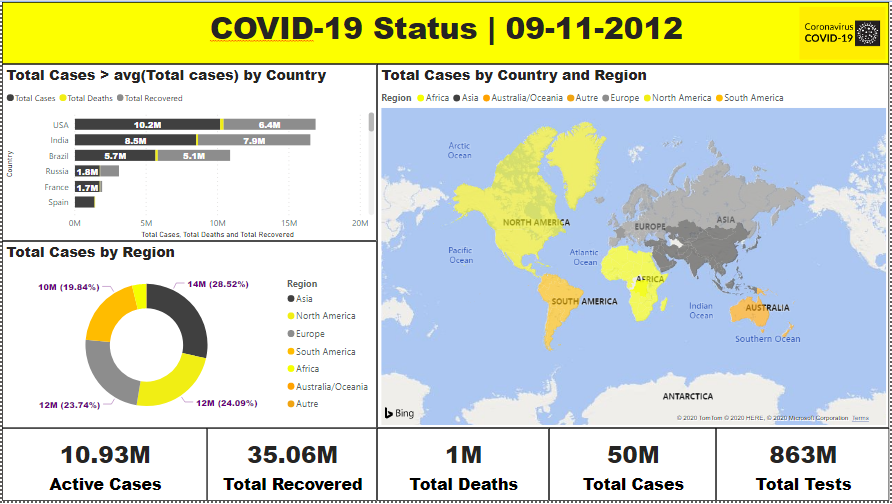

This screenshot's page, from the dashboard's own definition file:
{"tool":"powerbi","page":{"name":"Dashbord_Mysql","canvas":[1280,720],"ordinal":0},"visuals":[{"type":"donutChart","fields":{"Category":["data_covid.Region"],"Y":["Sum(data_covid.Total Cases)"]},"box":[0,344.8,541.1,269.8],"z":0},{"type":"card","fields":{"Values":["Sum(data_covid.Total Tests)"]},"box":[1030.2,614.7,249.6,105.3],"z":1000},{"type":"card","fields":{"Values":["Sum(data_covid.Total Cases)"]},"box":[789.3,614.7,241,105.3],"z":2000},{"type":"card","fields":{"Values":["Sum(data_covid.Total Deaths)"]},"box":[541.1,614.7,248.2,105.3],"z":3000},{"type":"card","fields":{"Values":["Sum(data_covid.Total Recovered)"]},"box":[253.9,614.7,287.1,105.3],"z":4000},{"type":"card","fields":{"Values":["Sum(data_covid.Active Cases)"]},"box":[0,614.7,253.9,105.3],"z":5000},{"type":"filledMap","fields":{"Series":["data_covid.Region"],"Category":["data_covid.Country"]},"box":[541.1,89.5,738.8,525.2],"z":6000},{"type":"textbox","box":[0,0,1279.8,89.5],"z":7000},{"type":"image","box":[1145.7,0,134.2,89.5],"z":8000},{"type":"barChart","title":"Total Cases > avg(Total cases)  by Country","fields":{"Category":["data_covid.Country"],"Y":["Sum(data_covid.Total Cases)","Sum(data_covid.Total Deaths)","Sum(data_covid.Total Recovered)"]},"box":[0,89.5,541.1,255.4],"z":9000}]}

Visuals, with their boxes in screenshot pixels (x1, y1, x2, y2), scaled from the page's 1280x720 canvas onto the 892x504 screenshot:
donutChart - data_covid.Region x Sum(data_covid.Total Cases): 0,241,377,430
card - Sum(data_covid.Total Tests): 718,430,891,503
card - Sum(data_covid.Total Cases): 550,430,718,503
card - Sum(data_covid.Total Deaths): 377,430,550,503
card - Sum(data_covid.Total Recovered): 177,430,377,503
card - Sum(data_covid.Active Cases): 0,430,177,503
filledMap - data_covid.Region x data_covid.Country: 377,63,891,430
textbox: 0,0,891,63
image: 798,0,891,63
"Total Cases > avg(Total cases)  by Country" barChart: 0,63,377,241
